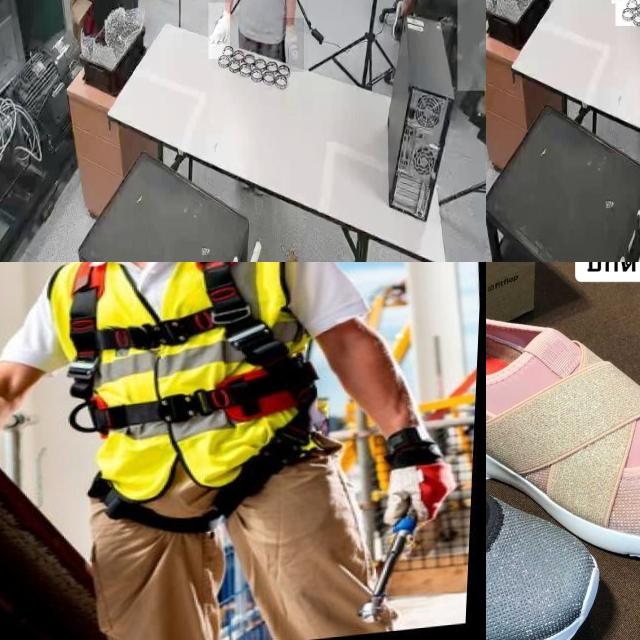Harness: (68, 262, 318, 436)
Sandals: (486, 262, 640, 589), (486, 358, 619, 640)
hand_glove: (208, 2, 230, 60), (282, 18, 304, 73)
person: (212, 0, 309, 70)
